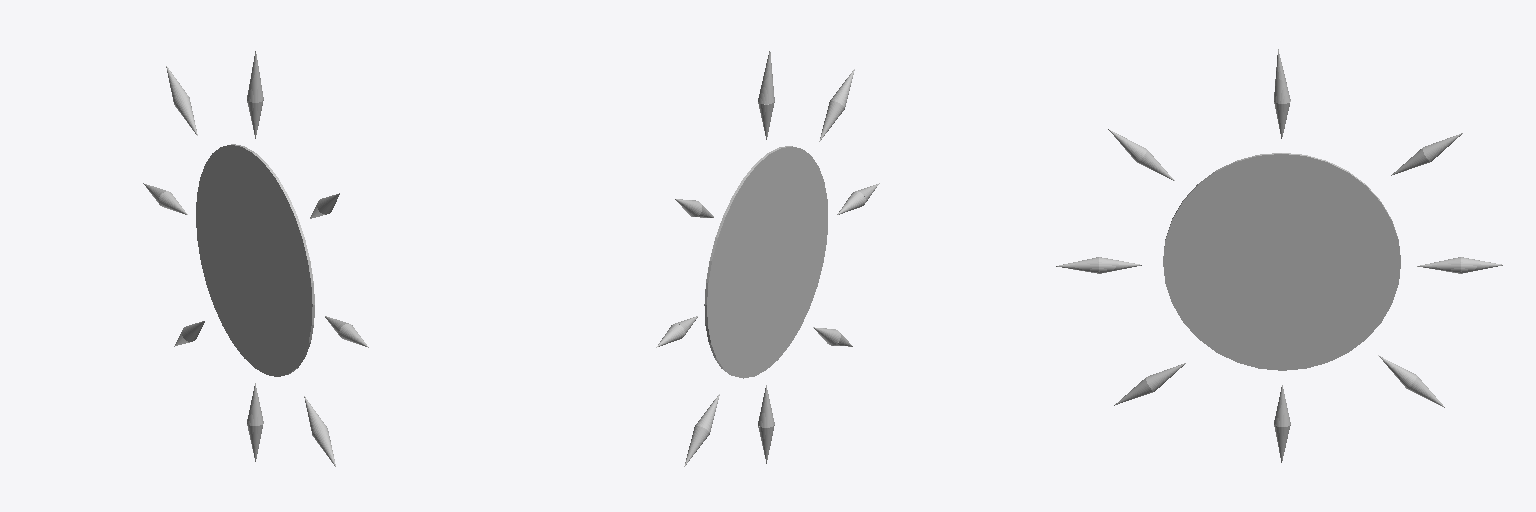
The model's file is portal.obj.
3 renders of one model, left to right at view 1: azimuth 30°, elevation 25°; view 2: azimuth 150°, elevation 25°; view 3: azimuth 270°, elevation 25°, orthographic.
Size of the model in its own units: 0.3941 by 9.93 by 9.74.